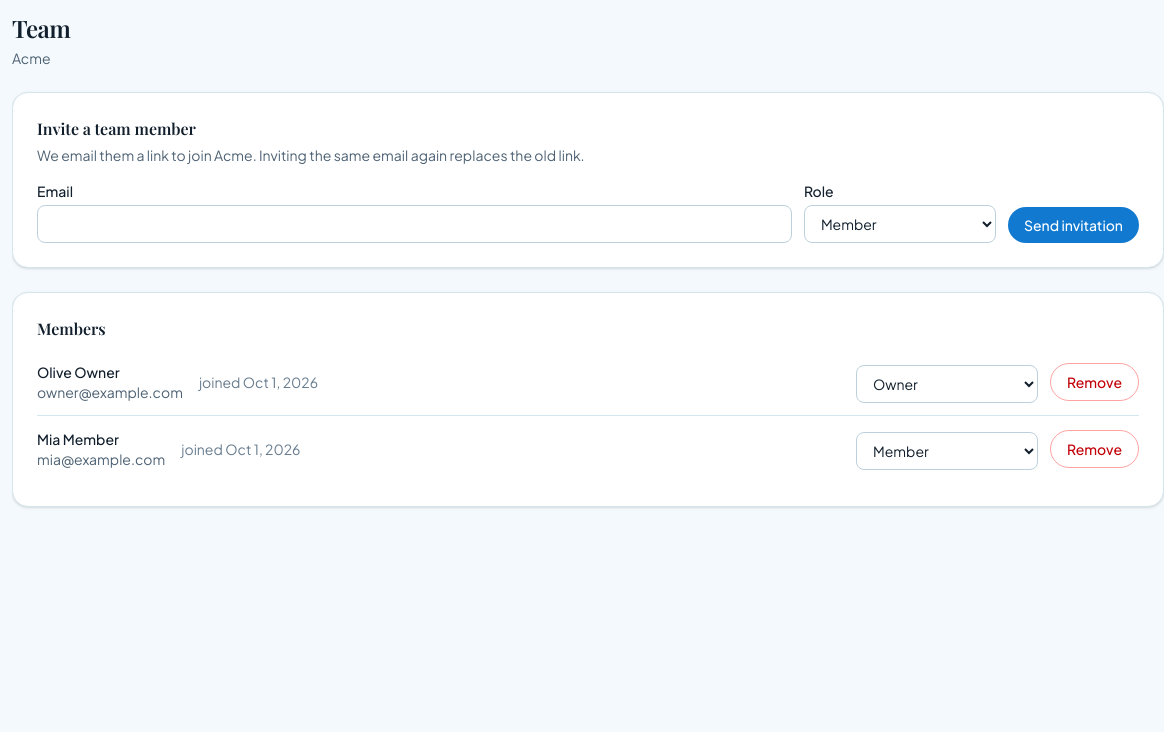
Test: TeamPage › removes a member after an inline confirmation
Click the button "Remove" in the row of "Mia Member" at (1094, 449), box [1050,430,1139,468]
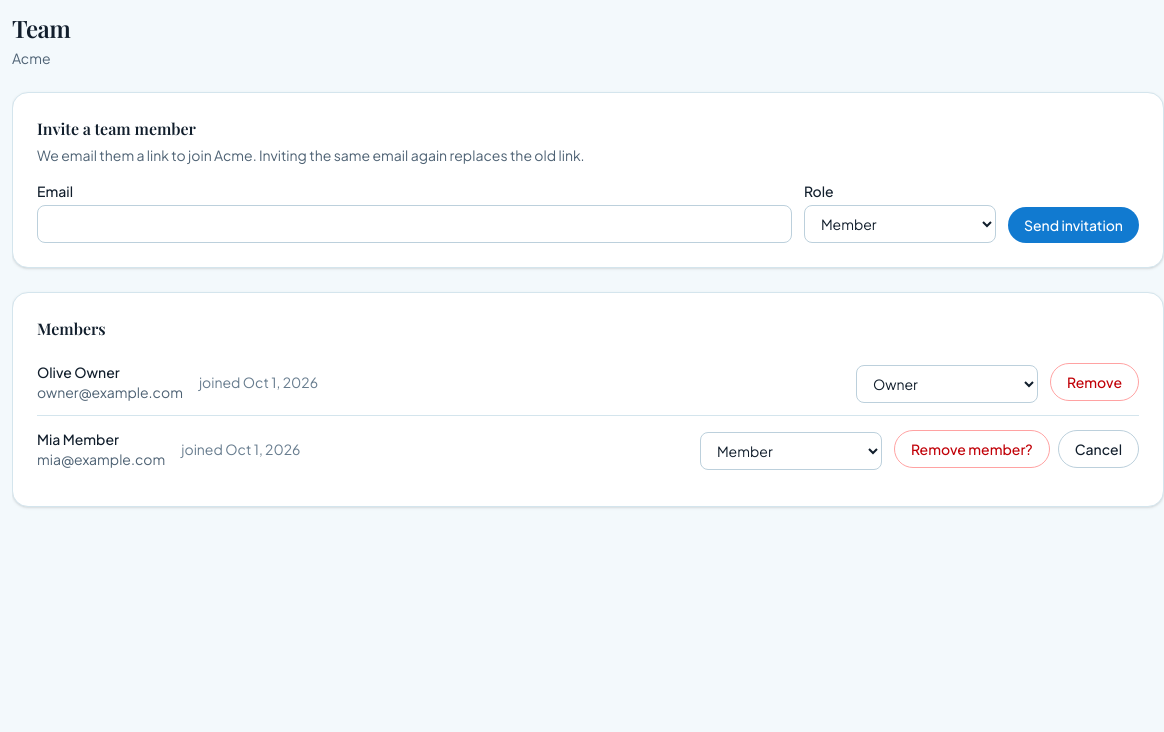
Click the button "Remove member?" at (972, 449), box [894,430,1050,468]
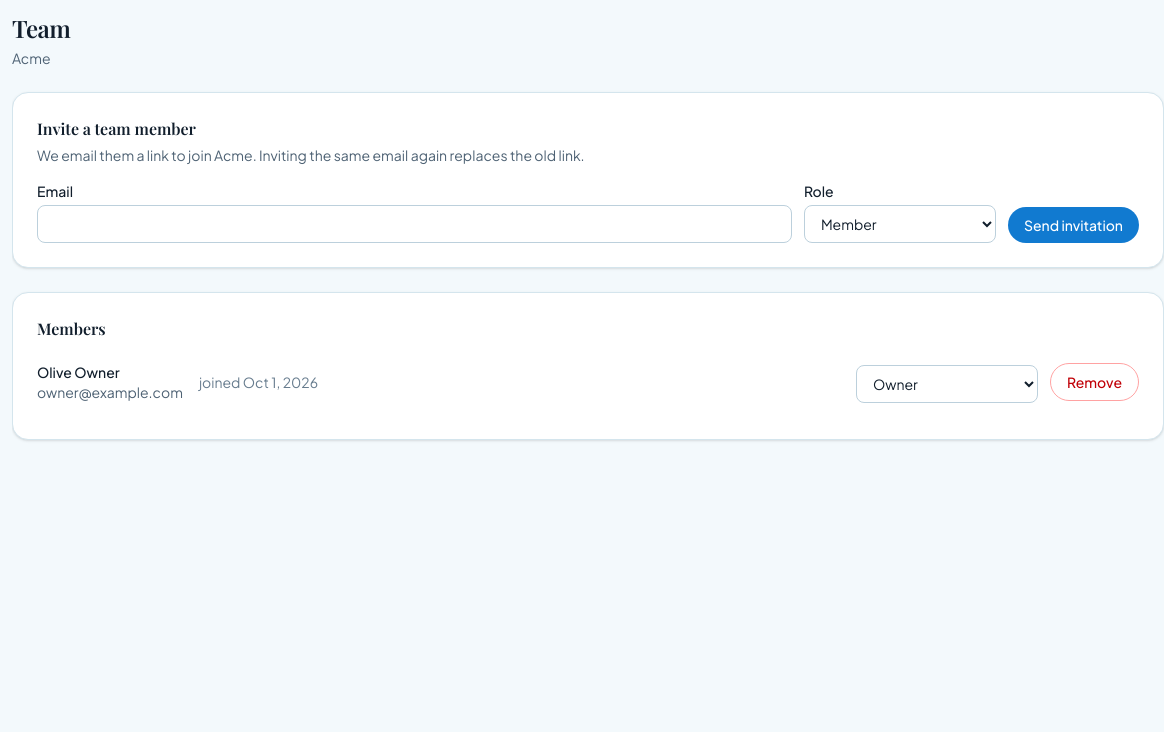
Now the text "Mia Member" is gone
